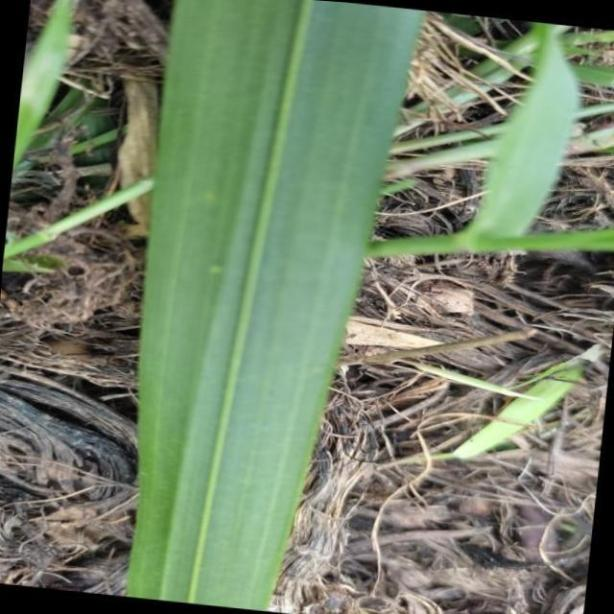Healthy: (134, 0, 427, 614)
